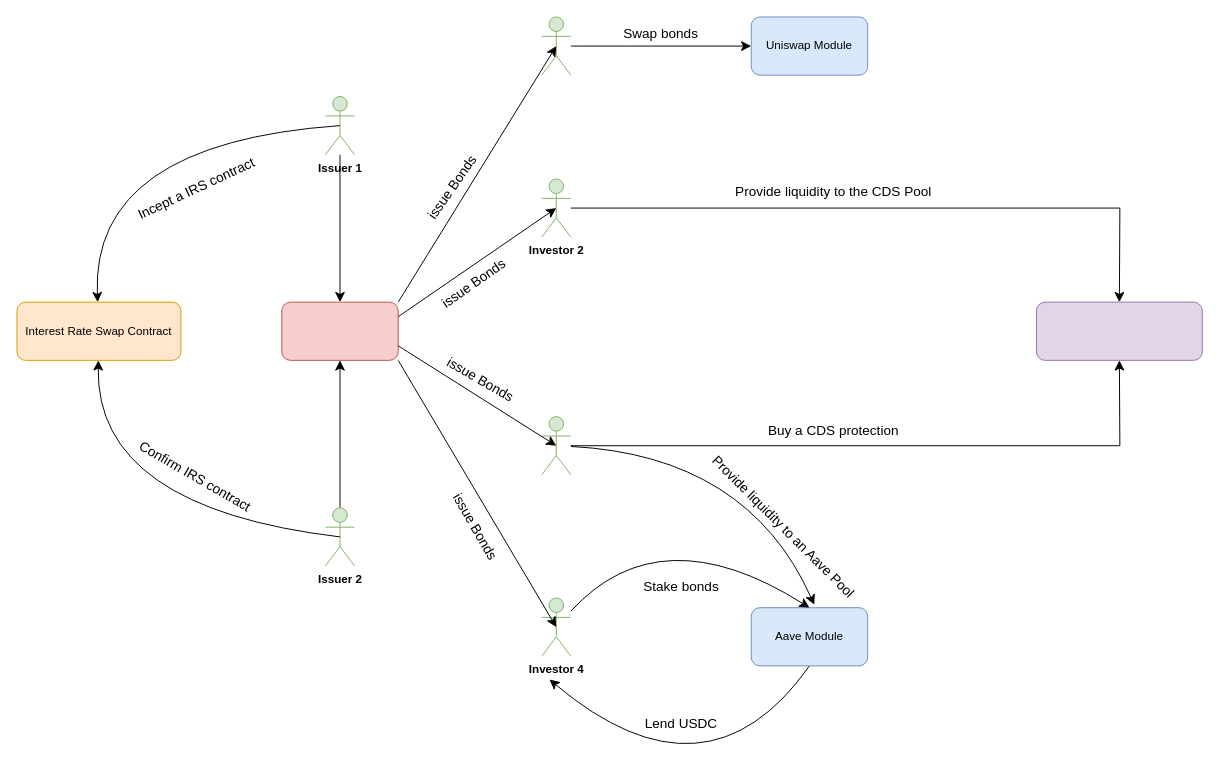
Some shapes in this 1219 by 761 pixel diagram are drawn without their labels. Each missing label, with the box of its shape:
Bond Contract: (281, 301, 398, 360)
Credit Default Swap Contract: (1035, 301, 1202, 360)
Investor 1: (541, 16, 571, 75)
Investor 3: (541, 416, 571, 475)
